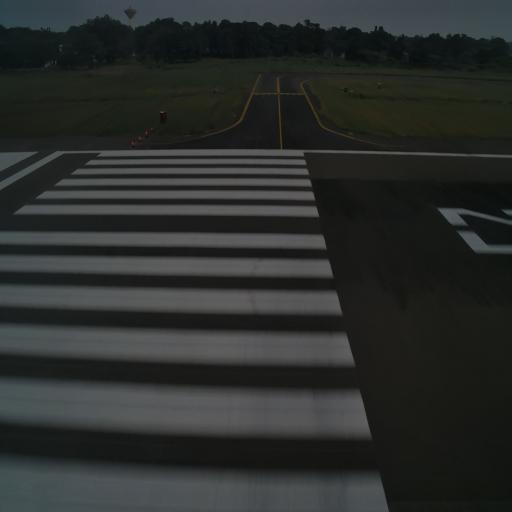on: (145, 129, 149, 136), (131, 140, 135, 146), (138, 134, 141, 142), (151, 126, 154, 131)
